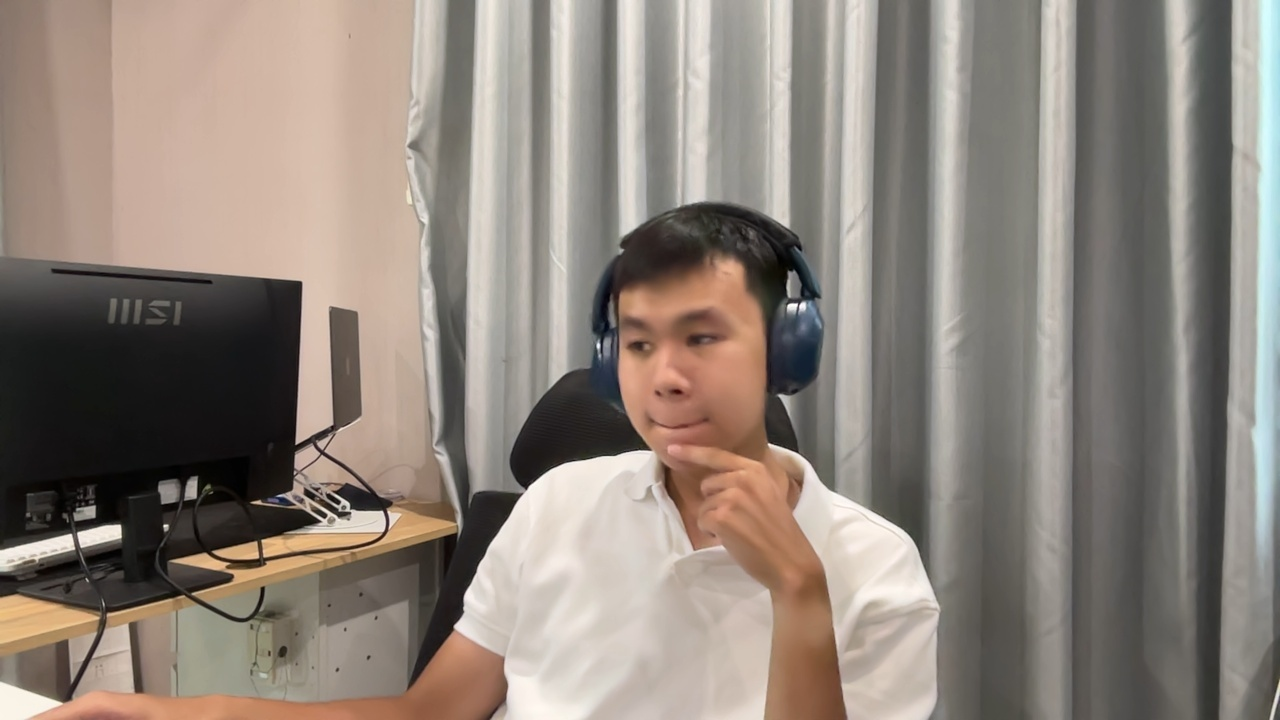over_ear: (597, 202, 826, 400)
